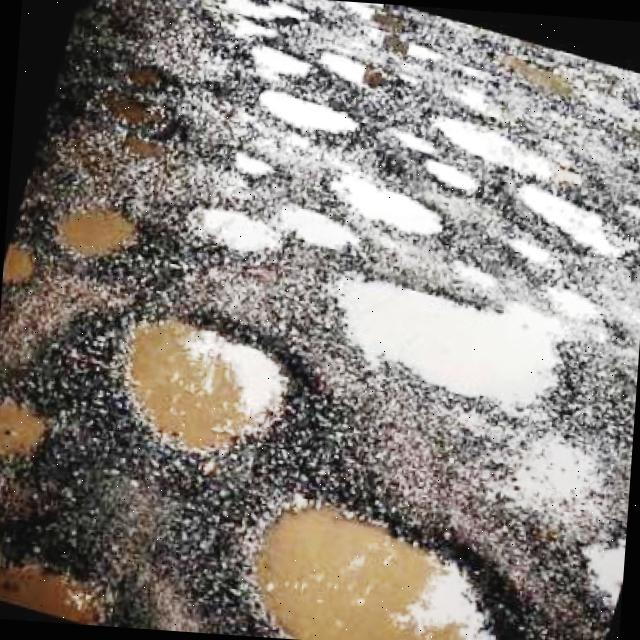pothole: (245, 481, 518, 640), (320, 273, 618, 404), (114, 300, 328, 458), (446, 402, 620, 531), (0, 508, 137, 627), (184, 192, 360, 276), (100, 57, 196, 176), (506, 174, 632, 259), (428, 106, 572, 180), (328, 160, 446, 244), (46, 186, 161, 267), (396, 40, 490, 114), (249, 85, 361, 143), (500, 46, 600, 108), (0, 380, 69, 464), (203, 0, 318, 48), (572, 530, 626, 601), (250, 37, 310, 82), (318, 44, 375, 90), (1, 234, 38, 295), (448, 256, 503, 294), (597, 122, 640, 167)
